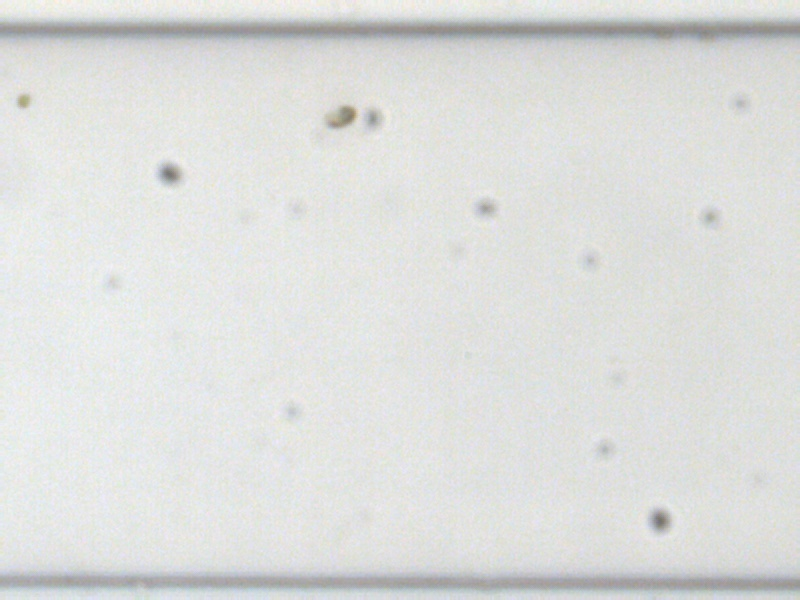Chlorella: (13, 93, 32, 109)
Dunaliella salina: (323, 102, 356, 129)
